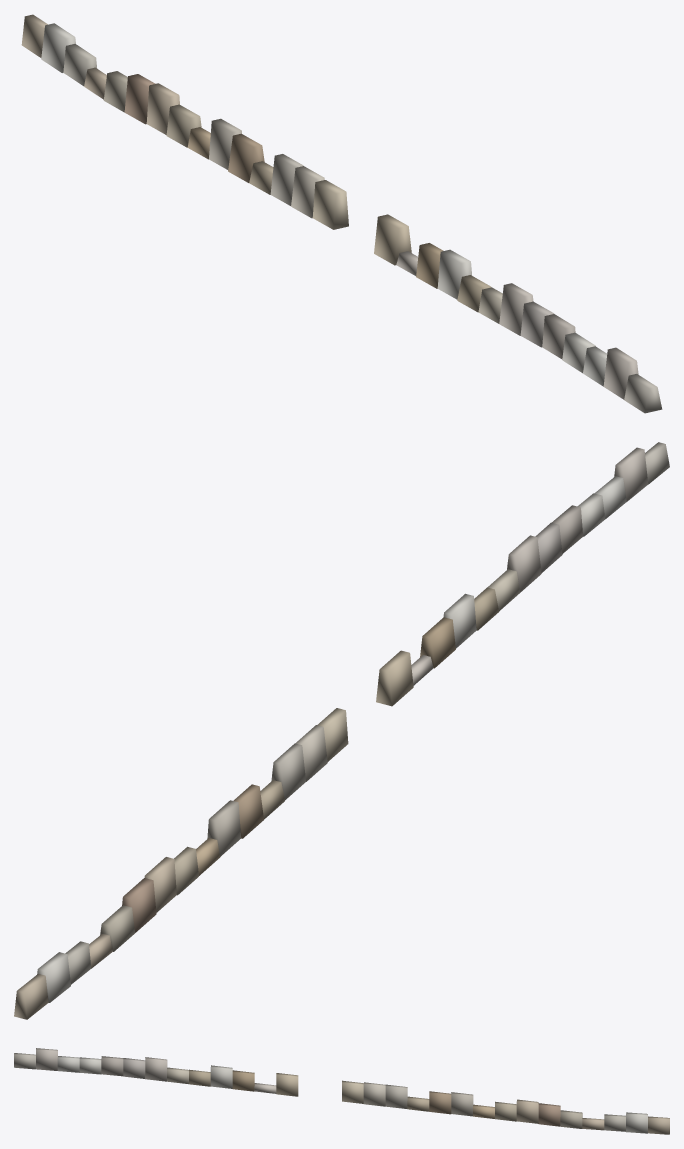
File: farm_9_-2_collision.glb
3 renders of one model, top to bottom at view 1: azimuth 30°, elevation 25°; view 2: azimuth 150°, elevation 25°; view 3: azimuth 270°, elevation 25°, orthographic. The views are drawn at different scales.
Visible parts, largest first — view 1: geometry_0; view 2: geometry_0; view 3: geometry_0.
Boxes of the visible parts, bbox=[...] form: geometry_0: bbox=[21, 14, 662, 413]; geometry_0: bbox=[14, 442, 669, 1019]; geometry_0: bbox=[14, 1048, 669, 1134].
Size of the model in its own units: 1.93 by 6.02 by 46.71.
